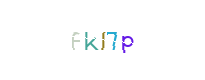1: (62, 0, 142, 80)
7: (62, 0, 142, 80)
F: (54, 0, 134, 80)
K: (62, 0, 142, 80)
P: (86, 0, 166, 80)
